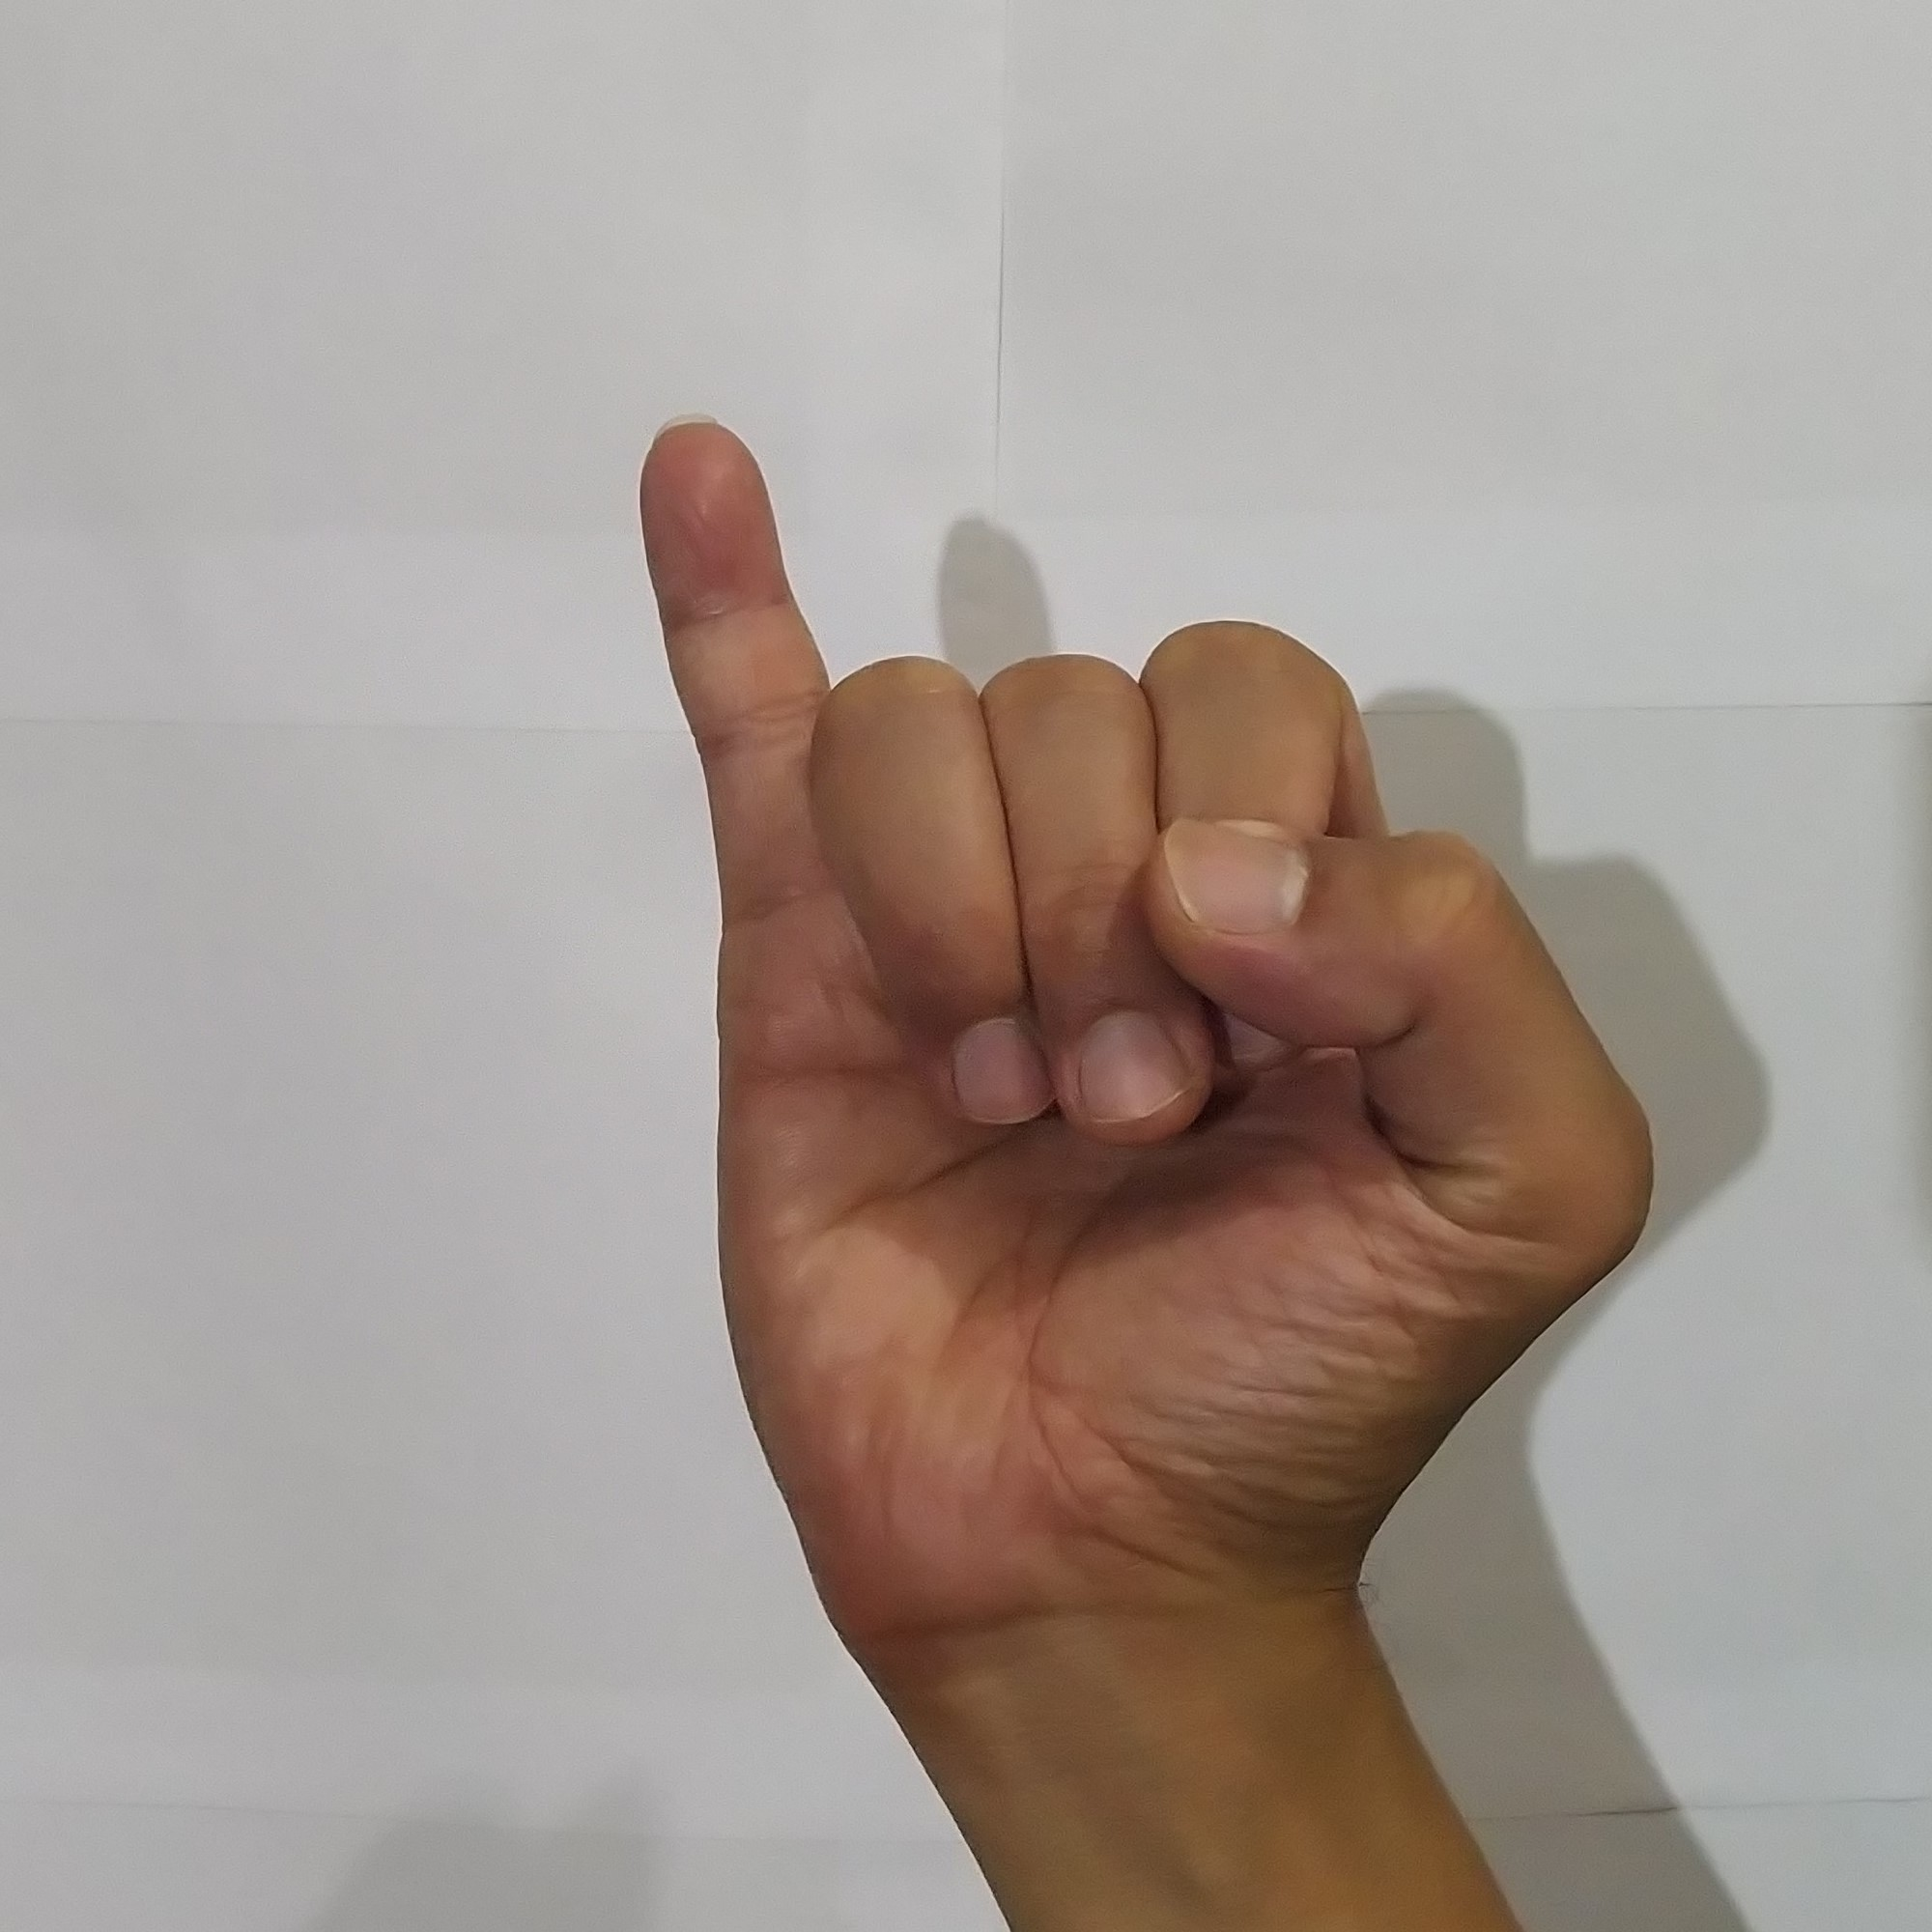I: (603, 396, 1677, 1576)
